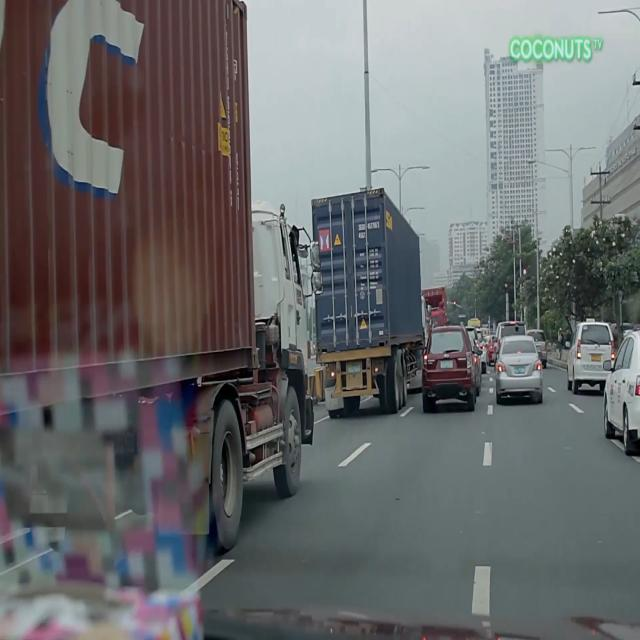truck: (0, 0, 321, 551), (312, 193, 429, 419)
